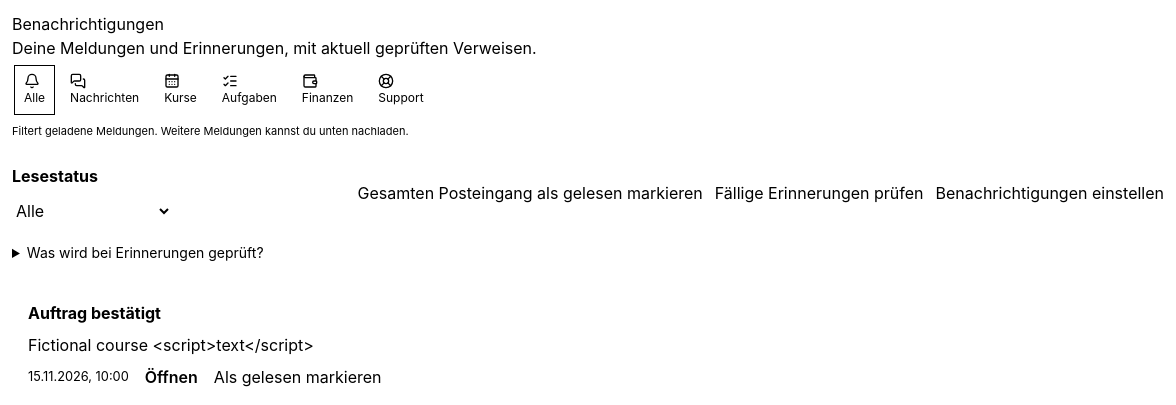
connected notification inbox › filters unread items without unmounting the filter and disables offline writes
The width and height of the screenshot is (1176, 405).
Check: the text "Fictional course <script>text</script>" is shown, box [28,334,314,354]
Check: the button "Als gelesen markieren" is disabled, box [214,364,382,388]
Select "Ungelesen" in the dropdown. click: (92, 210)
box: [12,200,172,222]
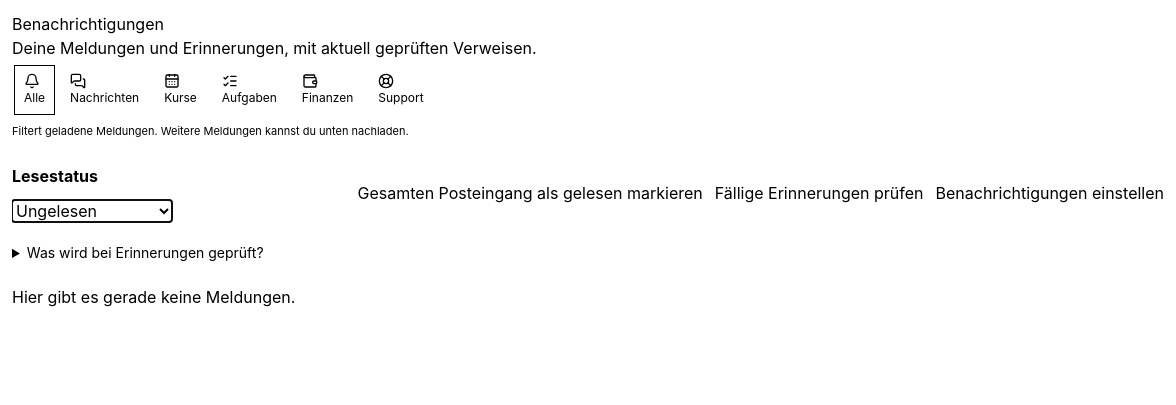
Check: the text "Hier gibt es gerade keine Meldungen." is shown, box [12,286,295,306]
